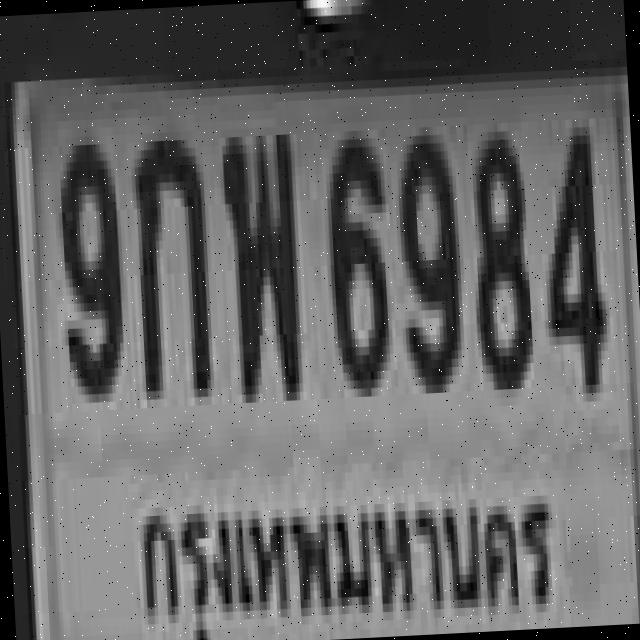10GorGai: (130, 131, 210, 392)
39PhorPan: (218, 126, 300, 395)
4: (538, 118, 606, 386)
6: (321, 130, 388, 390)
8: (466, 122, 530, 382)
9: (55, 136, 123, 396), (392, 126, 460, 386)
Bangkok: (121, 454, 564, 640)
